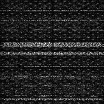lte: (1, 41, 104, 47), (1, 50, 104, 55), (1, 96, 104, 100)
